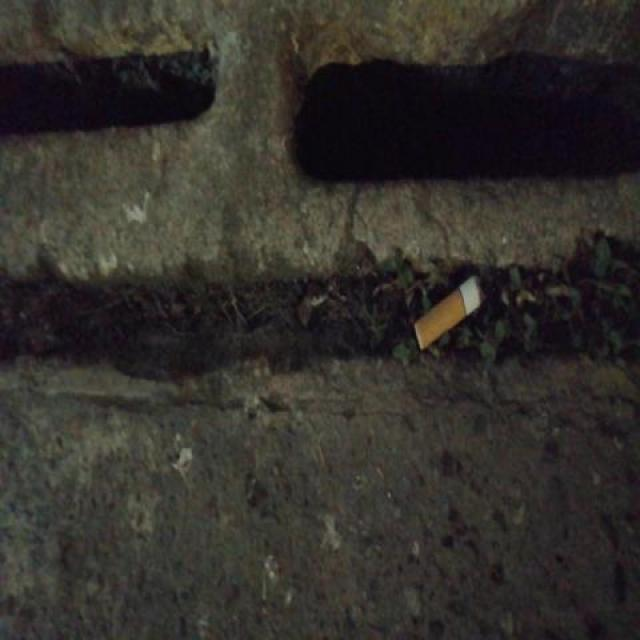non-organic waste: (408, 274, 488, 355)
